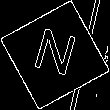N_S: (29, 25, 81, 85)
